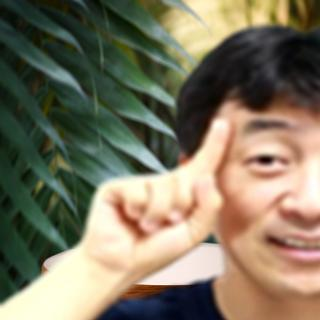IRRITATED: (75, 112, 236, 282)
